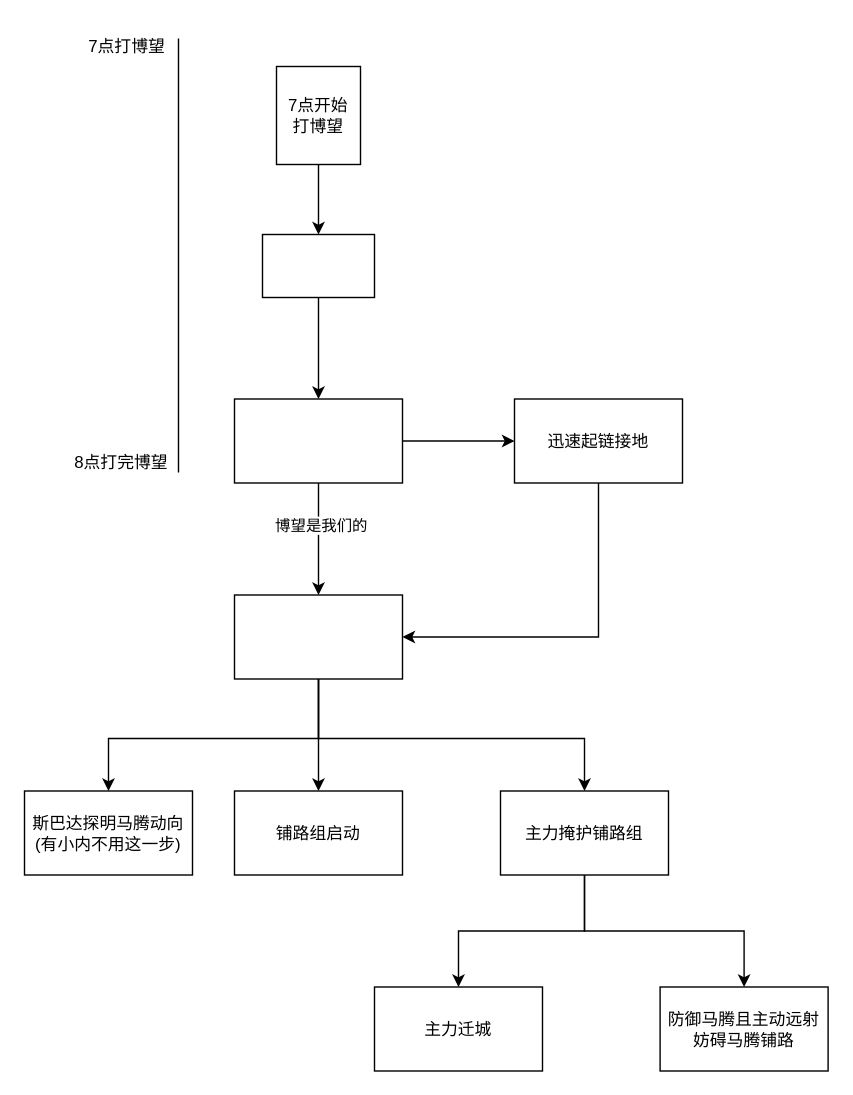
This 853x1095 diagram has some shape labels left out. The shapes that lost their labels are listed below. From the top down, each one's centre as x and y in pixels, then its label:
At [317,265]: "主力立马回去补兵再回来".
At [317,440]: "8点打完".
At [317,636]: "司隶行动".
